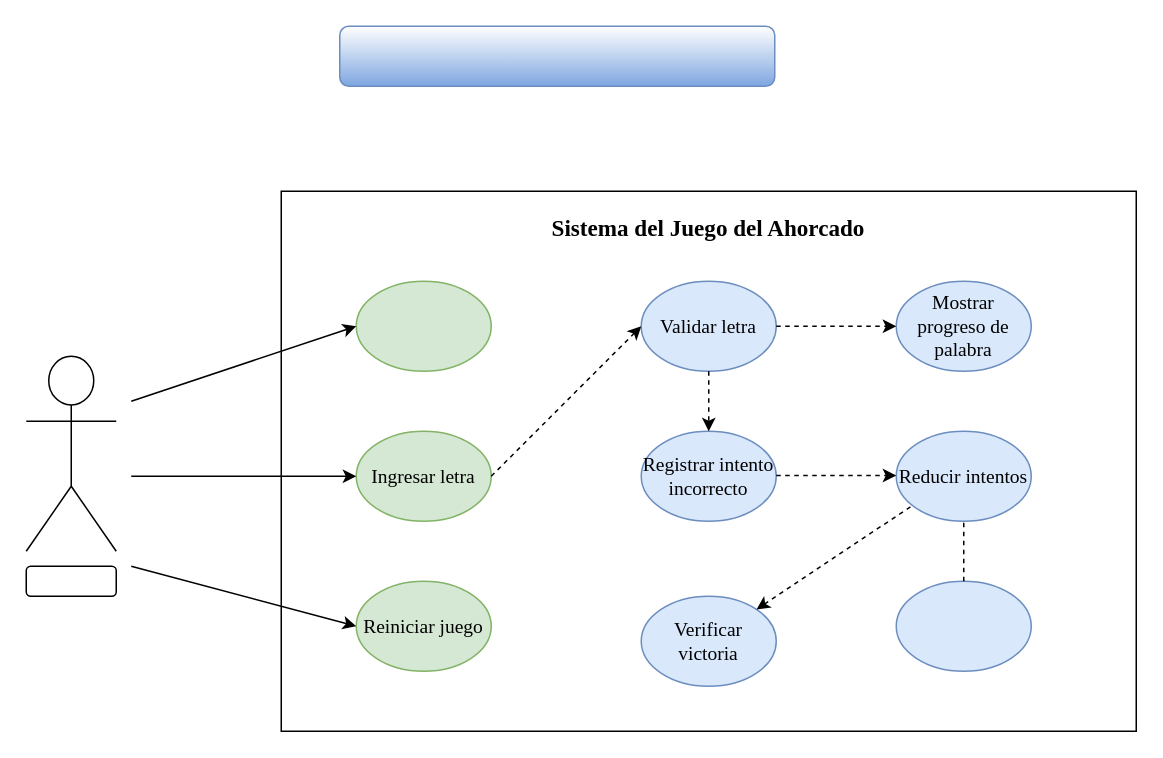
Some shapes in this 1163 by 758 pixel diagram are drawn without their labels. Here are the shapes that lost their labels. From the top down, the centre of each, then its label:
pixel 556 55: DIAGRAMA DE CASOS DE USO
pixel 423 325: Iniciar juego
pixel 70 580: Usuario
pixel 963 625: Finalizar juego
